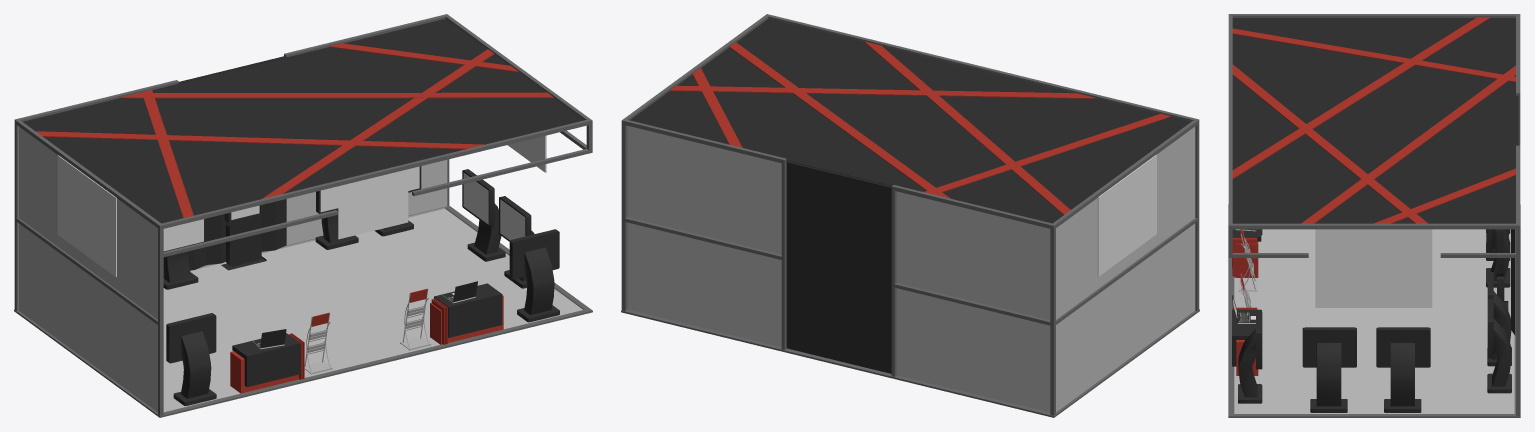
The model's file is Expo2_Booth3_Final_Reto1.fbx.
3 views of the same model, side by side, from view 1: azimuth 30°, elevation 25°; view 2: azimuth 150°, elevation 25°; view 3: azimuth 270°, elevation 25° (orthographic).
Visible parts, largest first — view 1: Plane.003, Cube.016, Plane.005, Cube.018, Cube.019, Plane.004, Plane.015, Plane.010, Plane.028, Plane.027, Cube.023, Cube.004 (+11 smaller); view 2: Plane.004, Plane.003, Plane.005, Plane.006, Cube.018, Plane.015, Cube.016, Cube.023, Cube.001, Cube.004, Cube.002, Cube.003; view 3: Plane.003, Cube.016, Plane.013, Cube.018, Plane.026, Plane.025, Cube.023, Cube.004, Cube.001, Cube.019, Cube.002, Plane.024 (+8 smaller).
Part boxes in pixels (bbox=[...]): Plane.003: bbox=[23, 18, 583, 223]; Cube.016: bbox=[14, 205, 592, 417]; Plane.005: bbox=[19, 127, 157, 412]; Cube.018: bbox=[14, 14, 592, 415]; Cube.019: bbox=[230, 283, 503, 393]; Plane.004: bbox=[18, 126, 447, 310]; Plane.015: bbox=[57, 155, 116, 276]; Plane.010: bbox=[338, 169, 408, 239]; Plane.028: bbox=[166, 313, 216, 405]; Plane.027: bbox=[509, 229, 559, 322]; Cube.023: bbox=[36, 131, 483, 149]; Cube.004: bbox=[118, 92, 553, 98]; Plane.004: bbox=[627, 125, 1050, 412]; Plane.003: bbox=[630, 18, 1190, 223]; Plane.005: bbox=[1056, 126, 1195, 412]; Plane.006: bbox=[786, 160, 891, 373]; Cube.018: bbox=[621, 14, 1199, 415]; Plane.015: bbox=[1097, 154, 1156, 276]; Cube.016: bbox=[621, 309, 1199, 417]; Cube.023: bbox=[864, 41, 1070, 214]; Cube.001: bbox=[670, 85, 1096, 98]; Cube.004: bbox=[729, 42, 950, 198]; Cube.002: bbox=[924, 114, 1170, 193]; Cube.003: bbox=[692, 67, 742, 147]; Plane.003: bbox=[1232, 18, 1518, 223]; Cube.016: bbox=[1228, 204, 1520, 417]; Plane.013: bbox=[1315, 229, 1432, 307]; Cube.018: bbox=[1228, 14, 1520, 415]; Plane.026: bbox=[1302, 327, 1356, 412]; Plane.025: bbox=[1376, 327, 1430, 412]; Cube.023: bbox=[1232, 17, 1490, 178]; Cube.004: bbox=[1301, 65, 1515, 223]; Cube.001: bbox=[1232, 64, 1427, 223]; Cube.019: bbox=[1232, 229, 1261, 375]; Cube.002: bbox=[1232, 28, 1515, 81]; Plane.024: bbox=[1487, 299, 1511, 393].
Size of the model in its own units: 1201 by 508 by 700.
